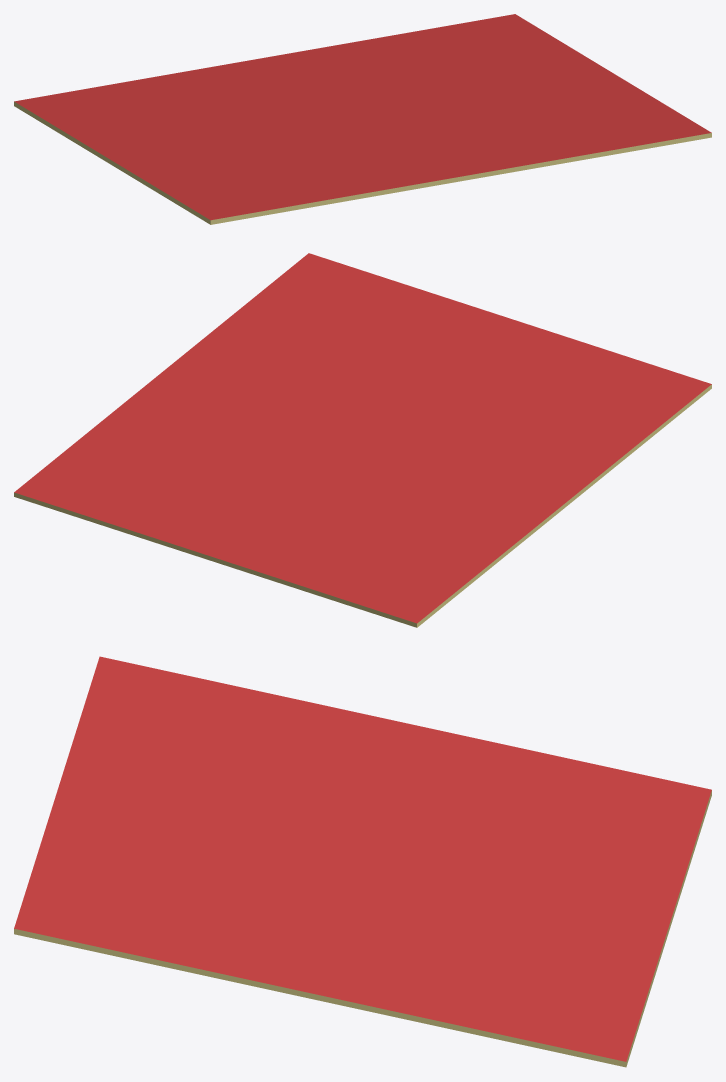
3 views of the same model, one above another, from view 1: azimuth 30°, elevation 25°; view 2: azimuth 150°, elevation 25°; view 3: azimuth 270°, elevation 25° (orthographic). The views are drawn at different scales.
Size of the model in its own units: 11.77 by 11.32 by 1.87.
